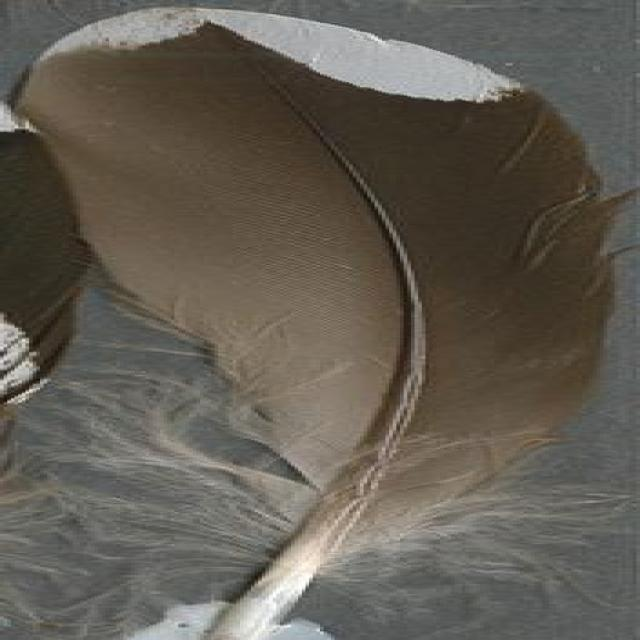feather: (25, 7, 618, 640)
